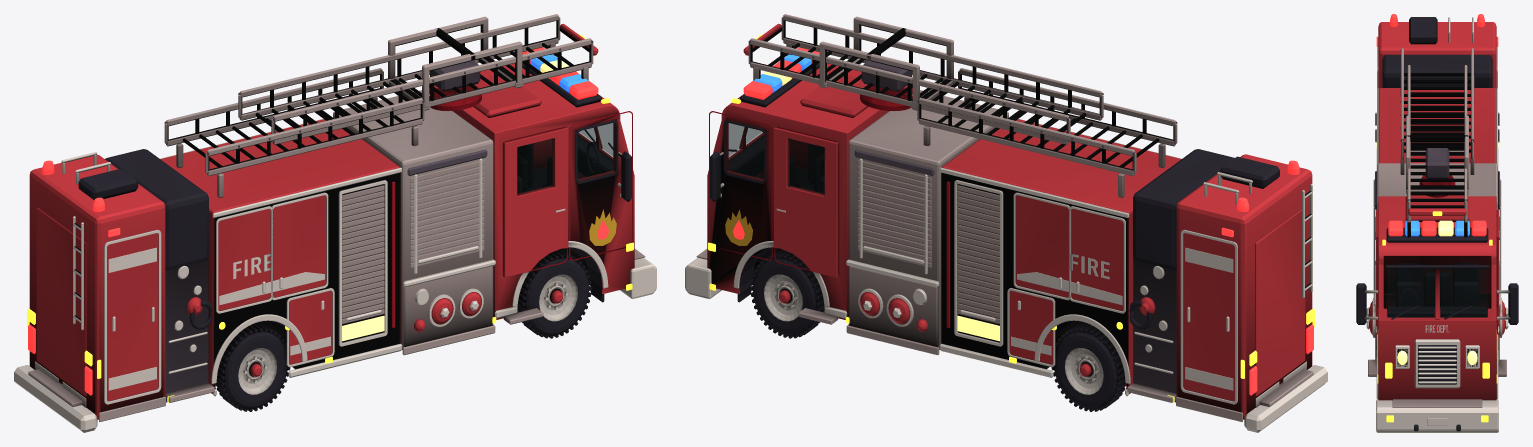
Rendered from veh.fire-engine.glb.
3 views of the same model, side by side, from view 1: azimuth 30°, elevation 25°; view 2: azimuth 150°, elevation 25°; view 3: azimuth 270°, elevation 25° (orthographic). The views are drawn at different scales.
Visible parts, largest first — view 1: object 13, ladder, doorL, wheelRL, wheelFL, body, sirenL; view 2: object 13, ladder, doorR, wheelRR, wheelFR, body, sirenR; view 3: object 13, ladder, body, sirenL, sirenR, doorL, doorR, lightsFront.
Boxes of the visible parts, x1,y1,x2,y2 form: object 13: (27, 63, 634, 421); ladder: (164, 14, 598, 197); doorL: (502, 127, 568, 277); wheelRL: (215, 322, 290, 411); wheelFL: (517, 249, 591, 338); body: (14, 248, 656, 432); sirenL: (550, 71, 598, 99); object 13: (707, 63, 1314, 421); ladder: (743, 14, 1177, 197); doorR: (773, 127, 839, 277); wheelRR: (1051, 322, 1126, 411); wheelFR: (750, 249, 824, 338); body: (685, 248, 1327, 432); sirenR: (743, 71, 791, 99); object 13: (1356, 14, 1518, 400); ladder: (1400, 48, 1474, 237); body: (1376, 399, 1498, 432); sirenL: (1388, 220, 1436, 236); sirenR: (1438, 220, 1486, 236); doorL: (1375, 210, 1378, 339); doorR: (1496, 210, 1499, 339); lightsFront: (1397, 350, 1477, 364).
Bounding box in the file's own units: 7.4 × 3.55 × 2.1.
